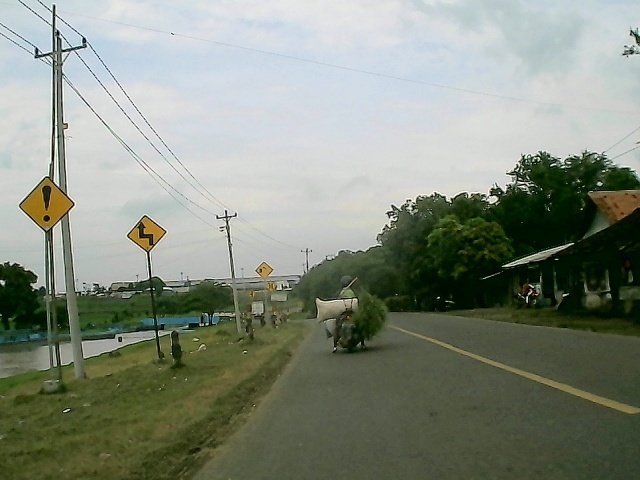Hati-hati: (16, 176, 75, 233)
Tikungan garda pertama kiri: (126, 213, 169, 254)
